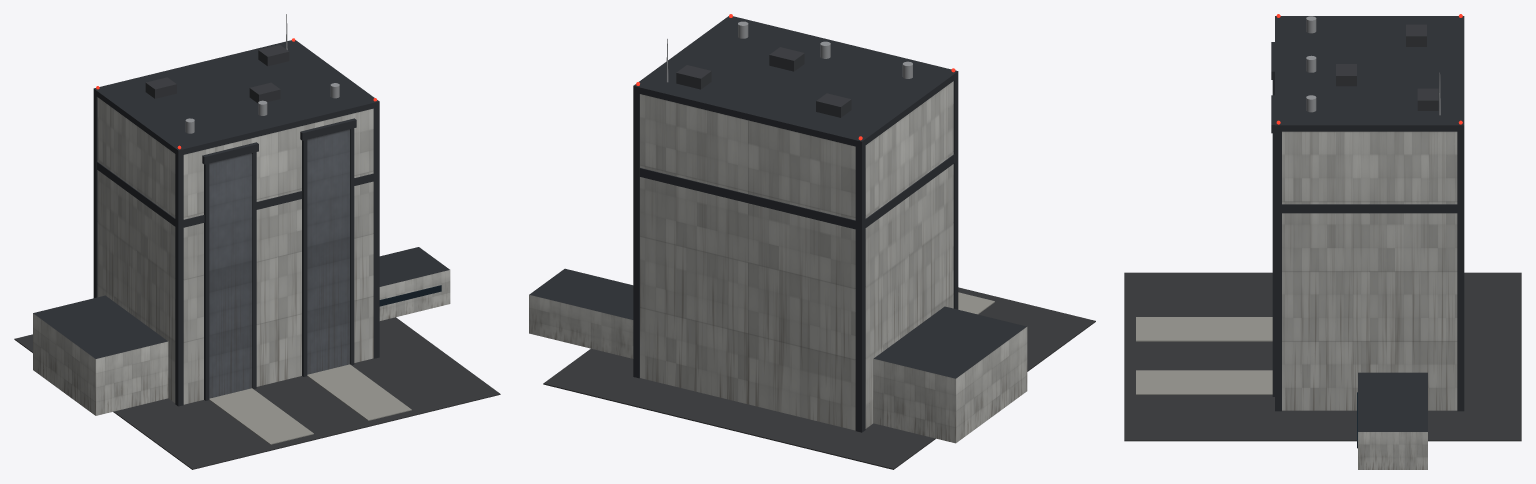
File: EA07_assembly_hall.glb
The picture shows the model from 3 angles, left to right: view 1: azimuth 30°, elevation 25°; view 2: azimuth 150°, elevation 25°; view 3: azimuth 270°, elevation 25°; orthographic projection. The views are drawn at different scales.
Visible parts, largest first — view 1: hall, high_bay_door (×2), apron, roof_parapet, side_bay, crawlerway (×2), door_guide (×4), corner_pier (×3), low_annex, roof_plant (×3), facade_band (×2), door_header (×2); view 2: hall, roof_parapet, apron, side_bay, low_annex, corner_pier (×3), facade_band (×2), roof_plant (×3); view 3: hall, apron, roof_parapet, low_annex, crawlerway (×2), corner_pier (×2), facade_band, roof_plant (×3), door_guide.
Part boxes in pixels (bbox=[...]): hall: bbox=[97, 97, 373, 404]; high_bay_door (×2): bbox=[209, 129, 349, 398]; apron: bbox=[14, 317, 500, 469]; roof_parapet: bbox=[93, 40, 379, 155]; side_bay: bbox=[33, 295, 168, 415]; crawlerway (×2): bbox=[209, 364, 411, 444]; door_guide (×4): bbox=[204, 128, 354, 400]; corner_pier (×3): bbox=[93, 94, 379, 406]; low_annex: bbox=[379, 247, 450, 320]; roof_plant (×3): bbox=[145, 45, 289, 103]; facade_band (×2): bbox=[97, 161, 373, 227]; door_header (×2): bbox=[202, 118, 356, 164]; hall: bbox=[640, 81, 953, 430]; roof_parapet: bbox=[633, 16, 958, 147]; apron: bbox=[543, 287, 1095, 469]; side_bay: bbox=[873, 306, 1027, 443]; low_annex: bbox=[529, 268, 633, 358]; corner_pier (×3): bbox=[633, 78, 958, 432]; facade_band (×2): bbox=[639, 154, 954, 229]; roof_plant (×3): bbox=[676, 47, 851, 117]; hall: bbox=[1282, 131, 1457, 410]; apron: bbox=[1124, 272, 1521, 441]; roof_parapet: bbox=[1275, 16, 1464, 131]; low_annex: bbox=[1358, 372, 1427, 469]; crawlerway (×2): bbox=[1136, 317, 1272, 394]; corner_pier (×2): bbox=[1275, 131, 1464, 411]; facade_band: bbox=[1282, 204, 1457, 213]; roof_plant (×3): bbox=[1336, 24, 1438, 110]; door_guide: bbox=[1272, 133, 1274, 396].
Size of the model in its own units: 210 by 156 by 170.
Materials: 11 (4 with a texture image).
